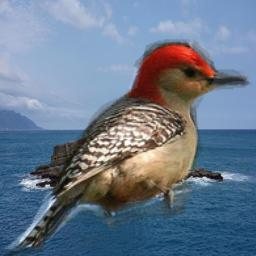Woodpecker: (4, 38, 255, 256)
